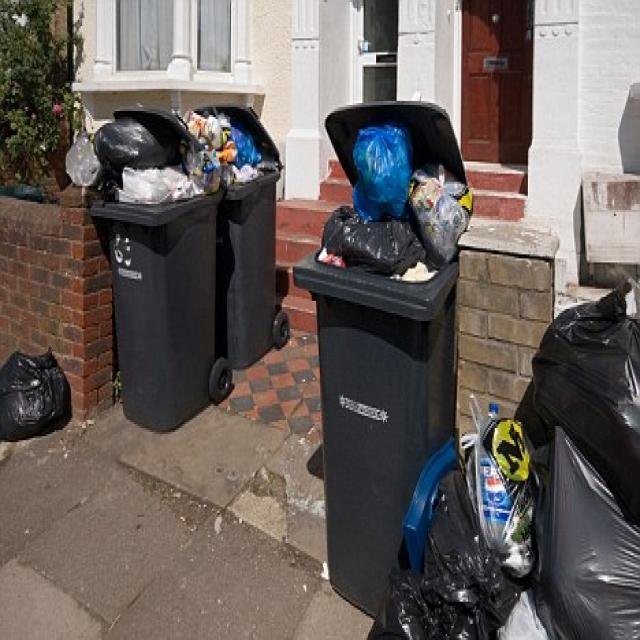garbage: (374, 277, 638, 638), (0, 347, 71, 438)
overflow: (291, 99, 472, 616), (66, 103, 222, 432), (218, 103, 278, 365)
